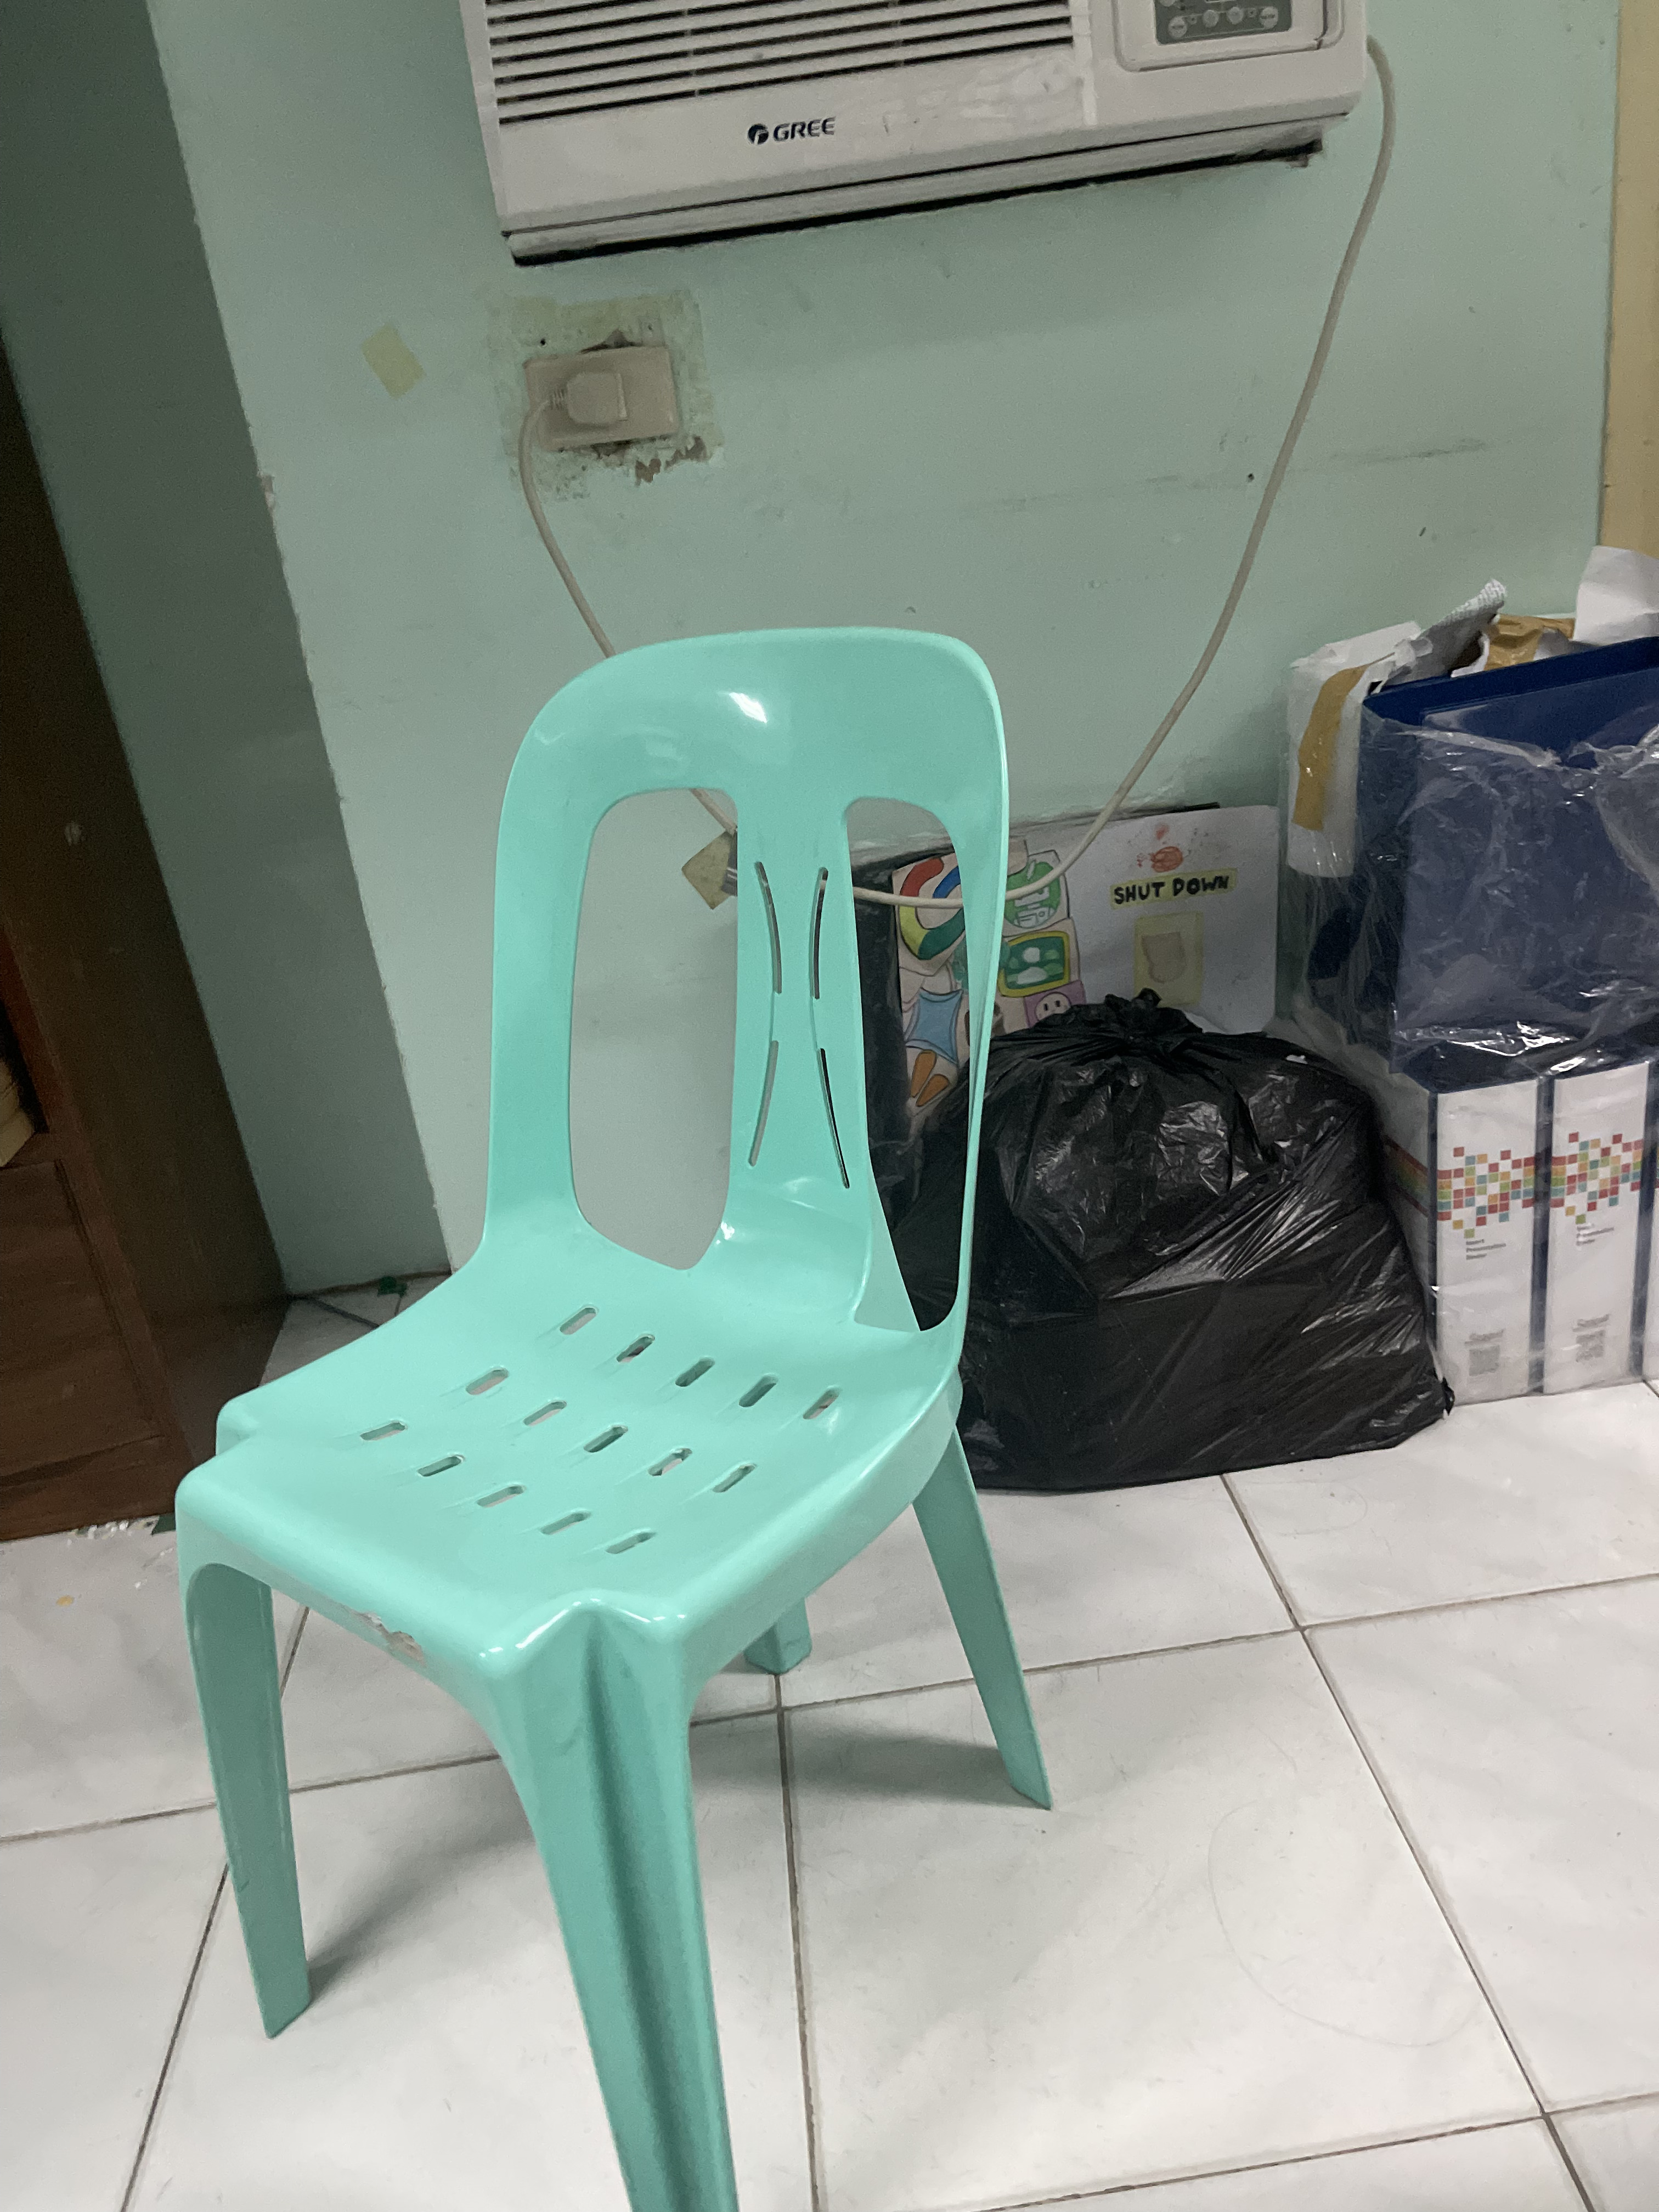chair2: (143, 617, 1063, 2212)
